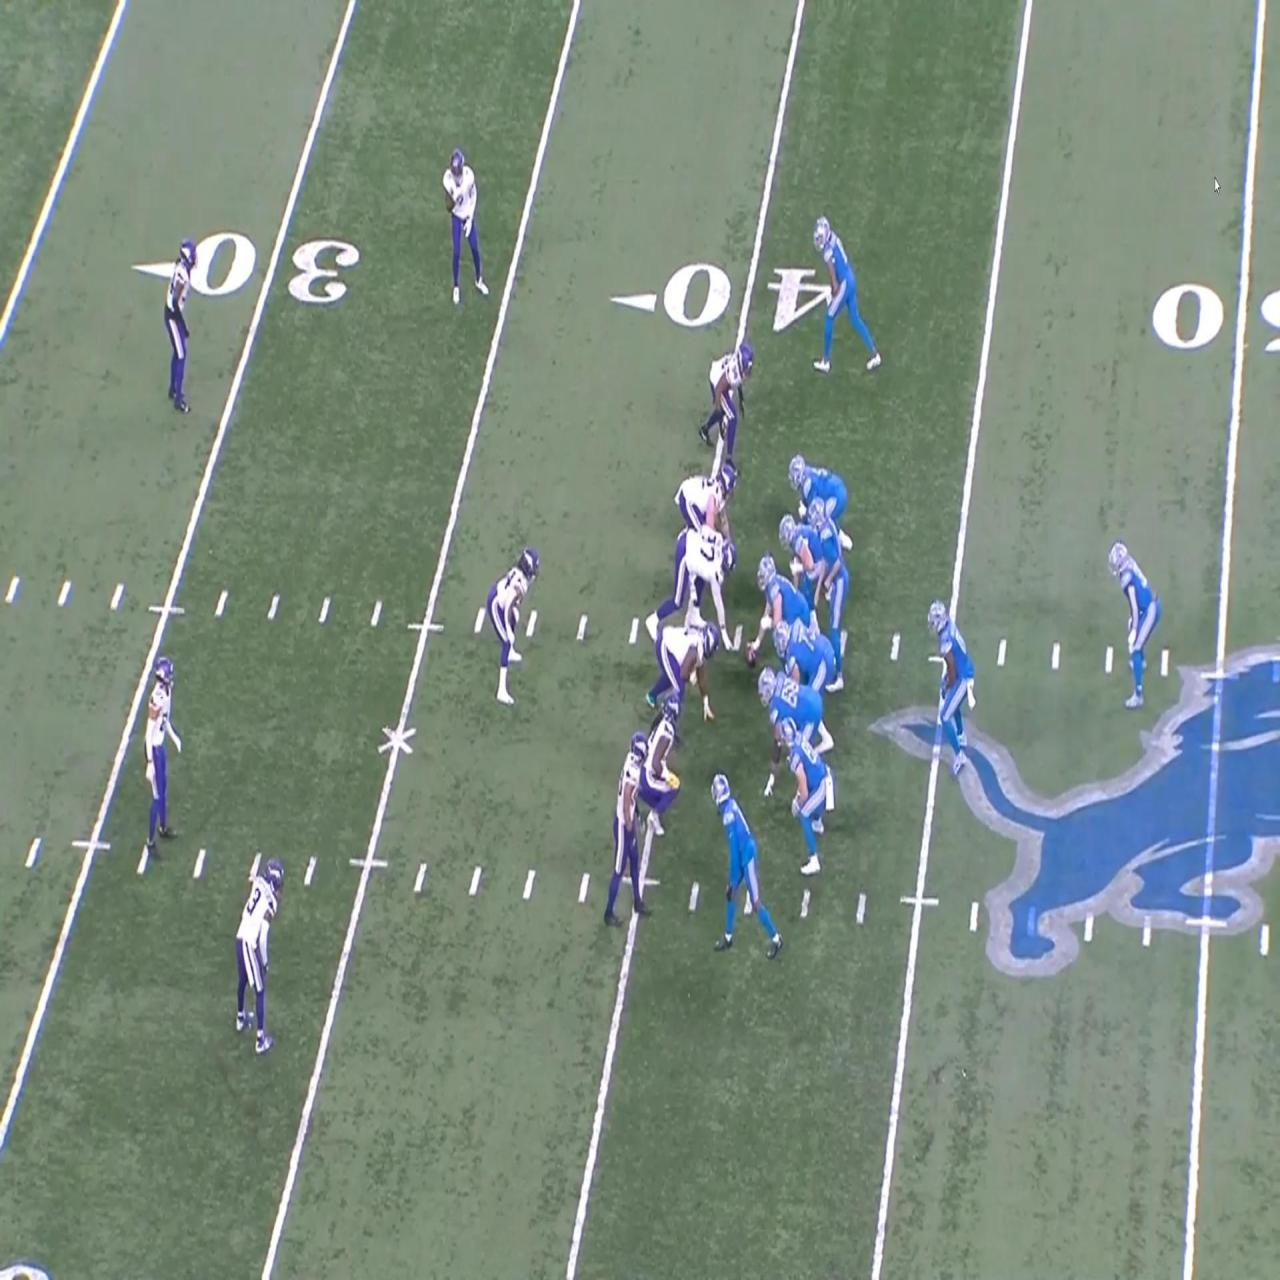30L: (129, 233, 360, 305)
40L: (607, 263, 836, 334)
50: (1151, 281, 1280, 355)
